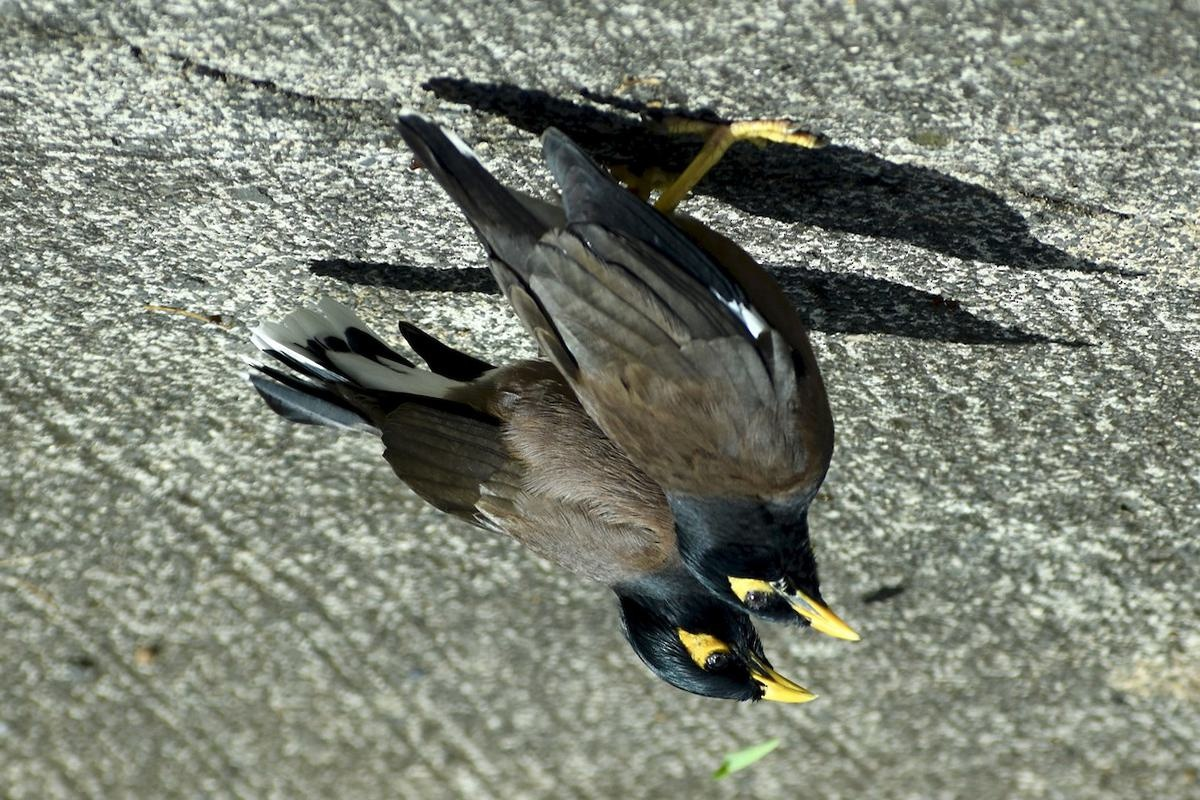myna: (484, 87, 933, 658), (377, 385, 848, 734)
